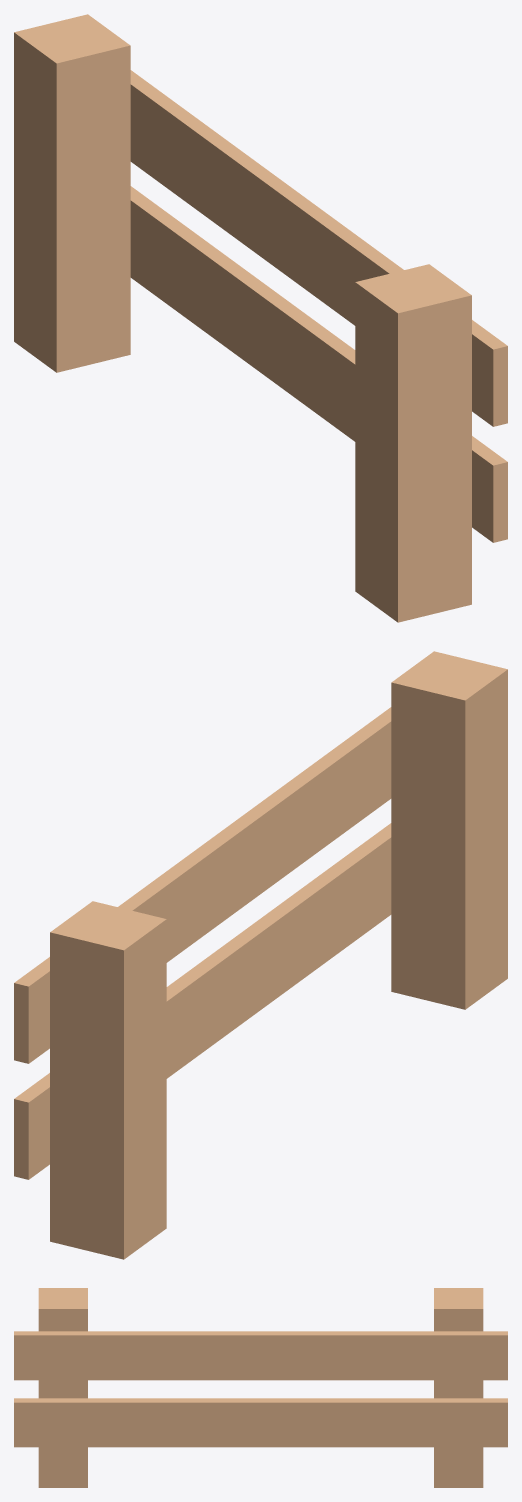
File: fence.glb
3 views of the same model, one above another, from view 1: azimuth 30°, elevation 25°; view 2: azimuth 150°, elevation 25°; view 3: azimuth 270°, elevation 25° (orthographic). The views are drawn at different scales.
Visible parts, largest first — view 1: fence(Clone); view 2: fence(Clone); view 3: fence(Clone).
Part boxes in pixels (x1=…): fence(Clone): x1=14, y1=14, x2=507, y2=622; fence(Clone): x1=14, y1=651, x2=507, y2=1259; fence(Clone): x1=14, y1=1288, x2=507, y2=1487.
Size of the model in its own units: 0.12 by 0.4 by 1.
